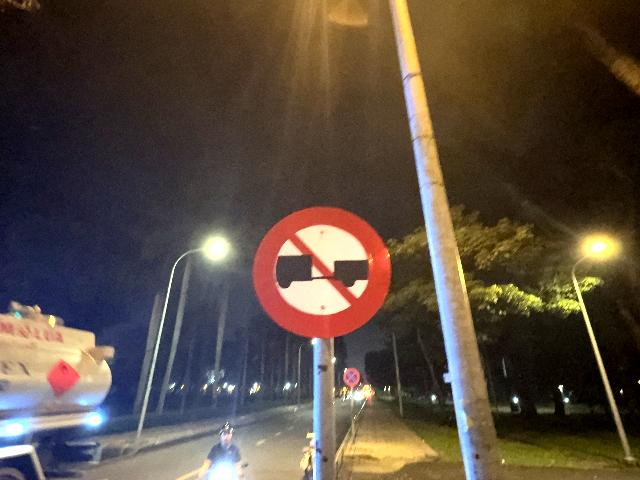cam-xe-somi-romooc: (253, 203, 392, 340)
